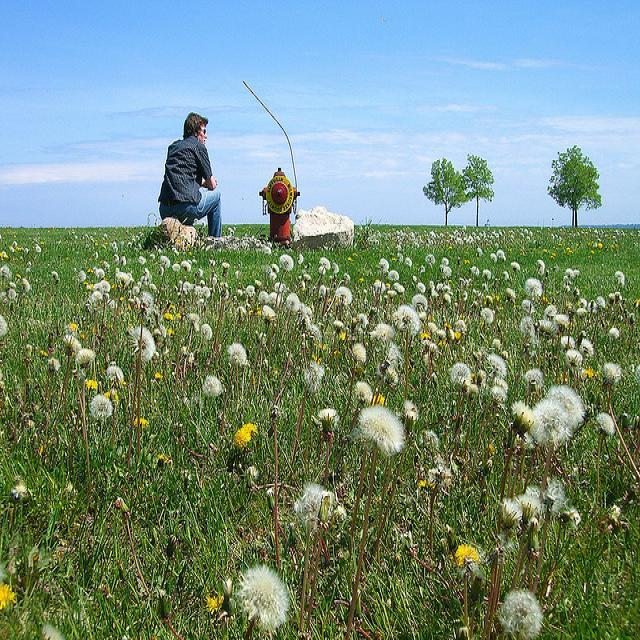fire_hydrant: (258, 165, 300, 239)
